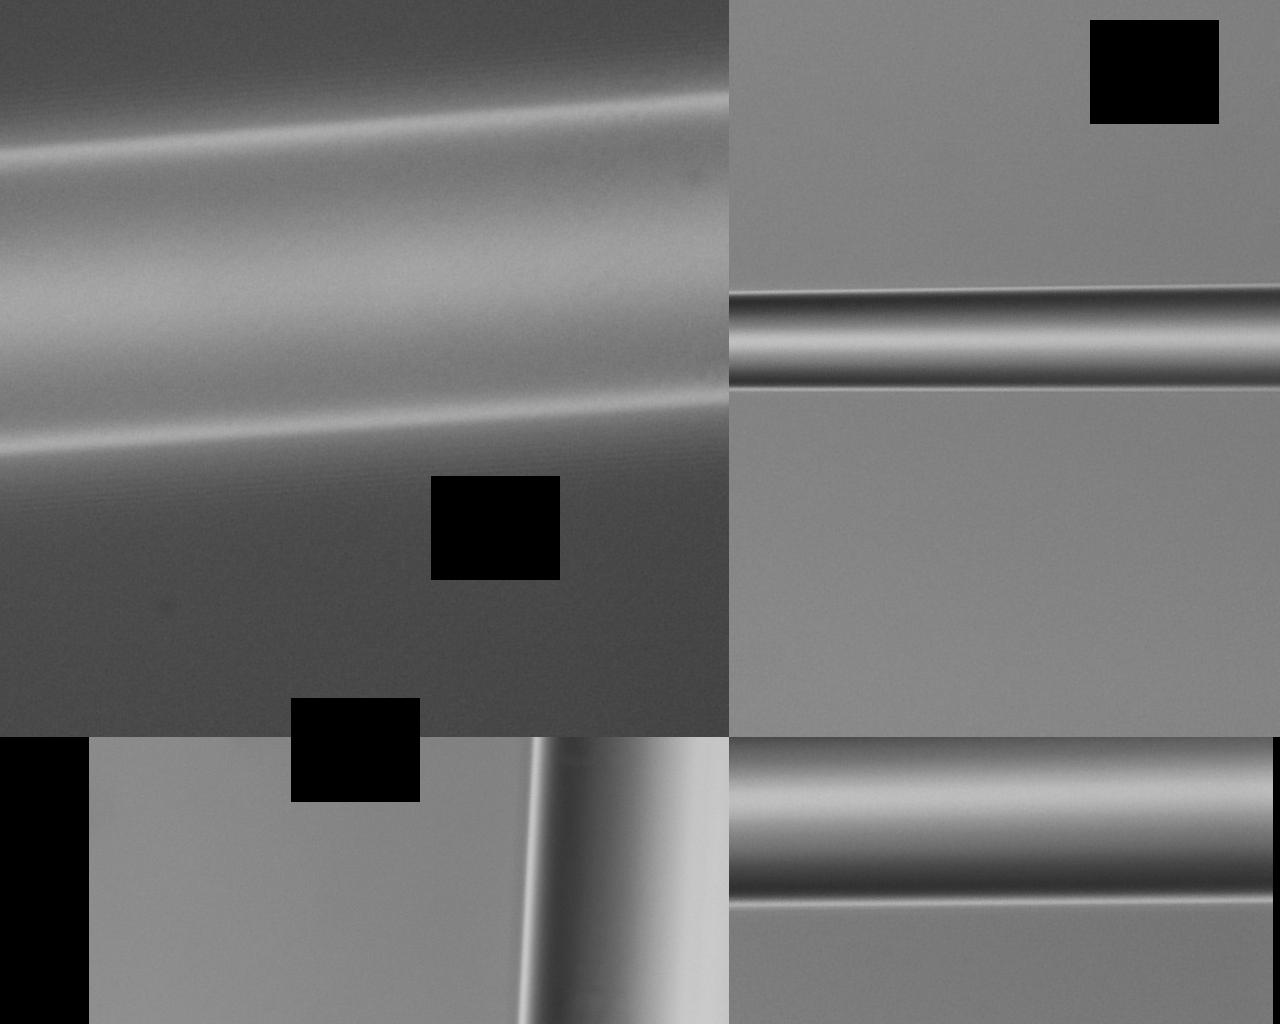fiber: (485, 703, 1280, 940), (881, 0, 1201, 450), (0, 671, 473, 907), (88, 217, 473, 356)
